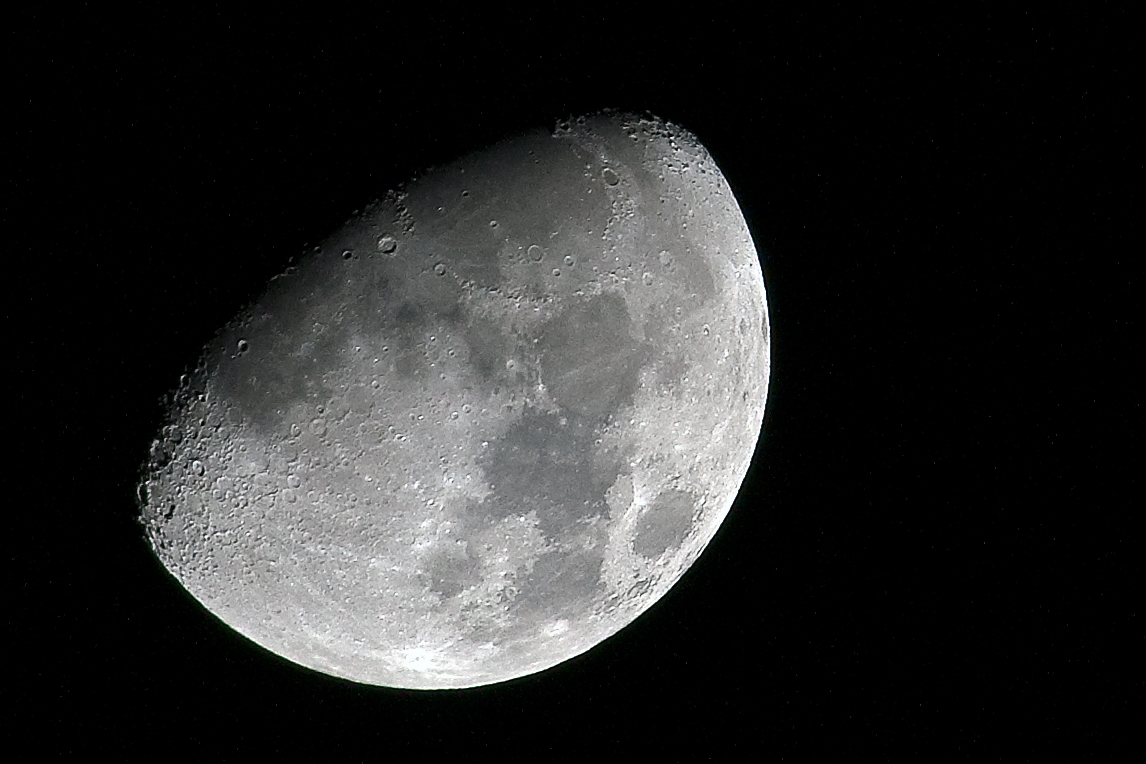crater: (360, 229, 410, 269), (230, 333, 263, 376), (595, 168, 632, 200), (518, 241, 550, 272), (652, 239, 679, 272), (330, 242, 361, 268), (429, 257, 456, 283), (452, 181, 480, 203), (639, 265, 658, 291), (459, 399, 478, 421)
